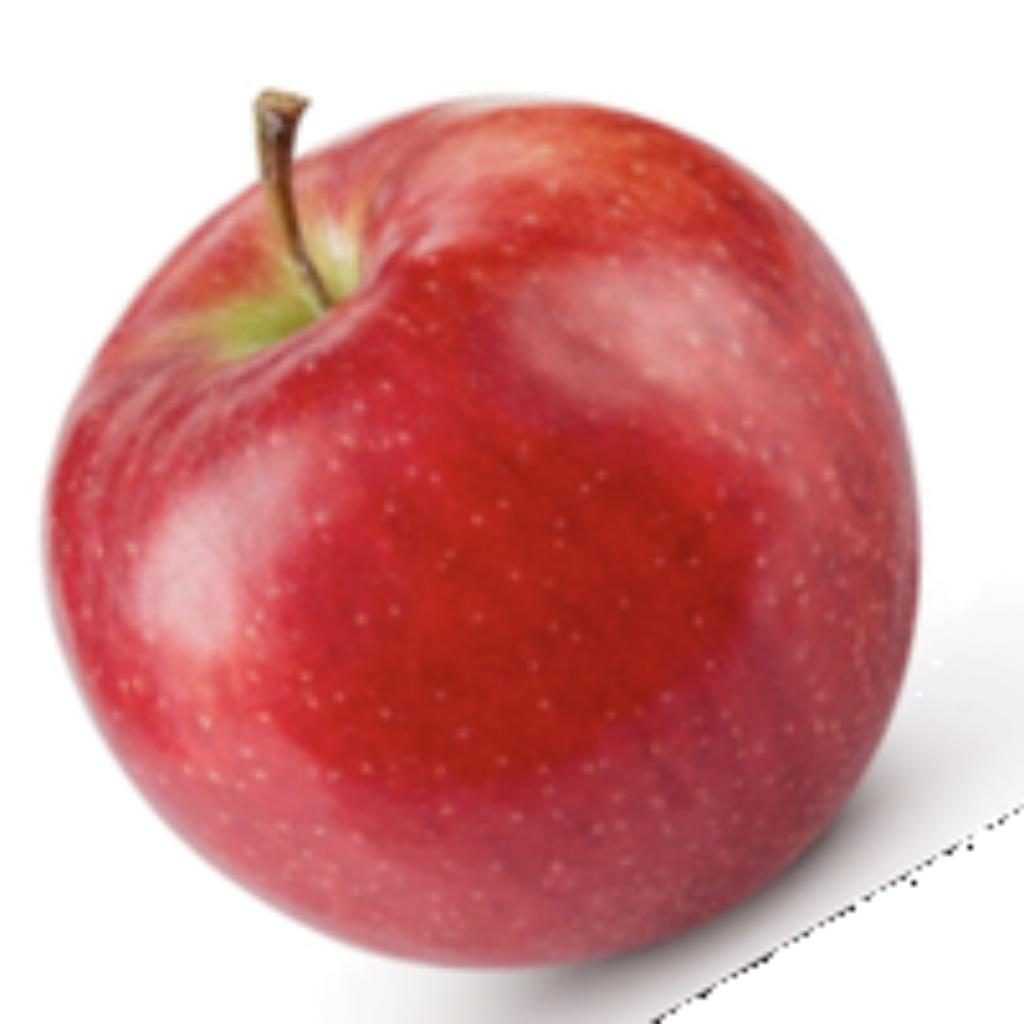apple: (31, 82, 1019, 1019)
